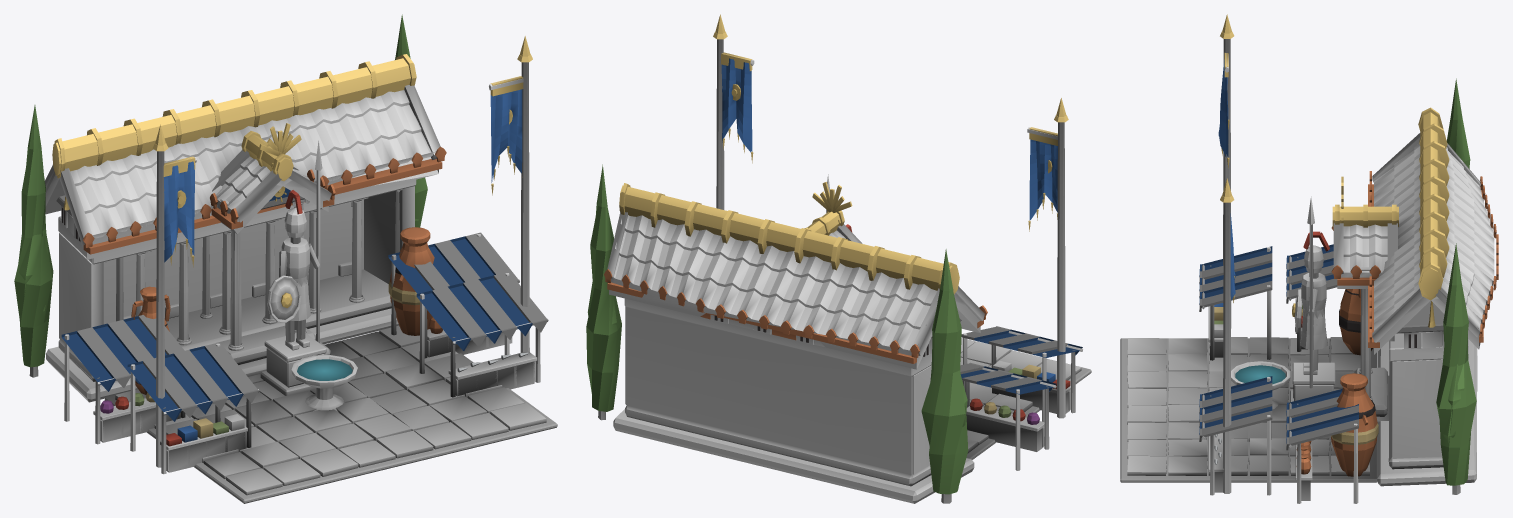
Rendered from agora-l3.glb.
3 renders of one model, left to right at view 1: azimuth 30°, elevation 25°; view 2: azimuth 150°, elevation 25°; view 3: azimuth 270°, elevation 25°, orthographic. The views are drawn at different scales.
Visible parts, largest first — view 1: agora-l3; view 2: agora-l3; view 3: agora-l3.
Boxes of the visible parts, x1,y1,x2,y2 form: agora-l3: (14, 14, 557, 503); agora-l3: (586, 14, 1091, 503); agora-l3: (1120, 14, 1498, 503).
Size of the model in its own units: 1.36 by 1.06 by 1.15.
